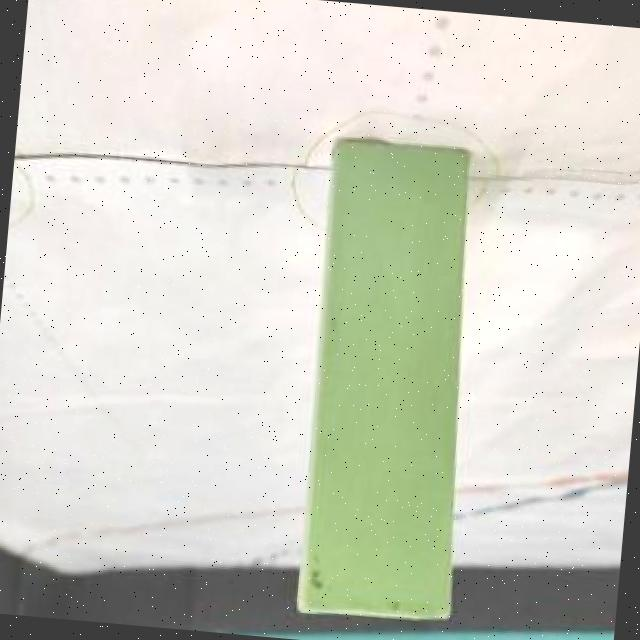greenbox: (293, 135, 488, 624)
